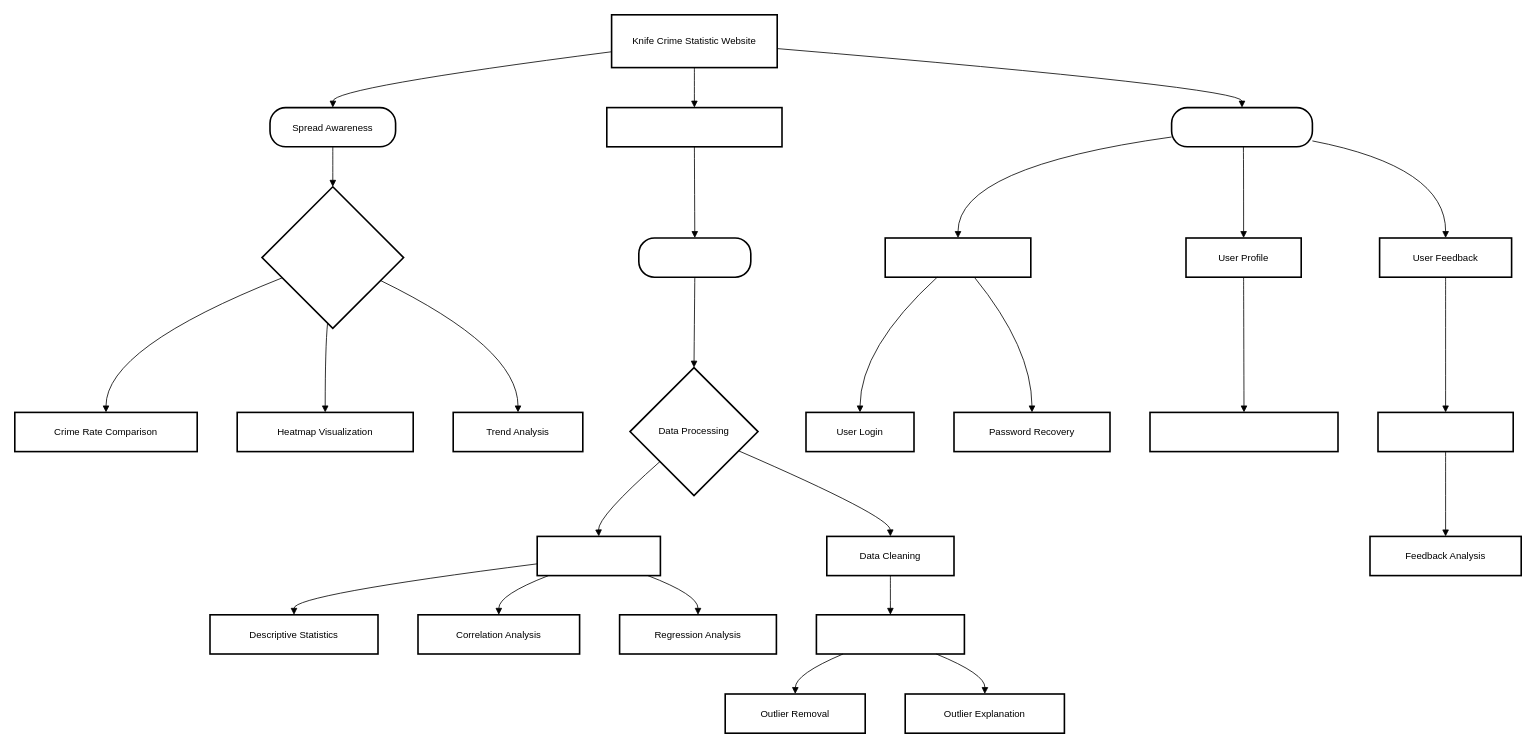
This 1535x747 diagram has some shape labels left out. The centre of each missing label's shape, as x and y in pixels:
"Customizable Dashboard" goes at (1243,431).
"Data Analysis" goes at (598,555).
"Data Collection" goes at (694,257).
"Data Presentation" goes at (332,257).
"Feedback Form" goes at (1445,431).
"Interactive Platform" goes at (1241,126).
"London Boroughs Data" goes at (694,126).
"Outlier Detection" goes at (890,634).
"User Registration" goes at (957,257).
